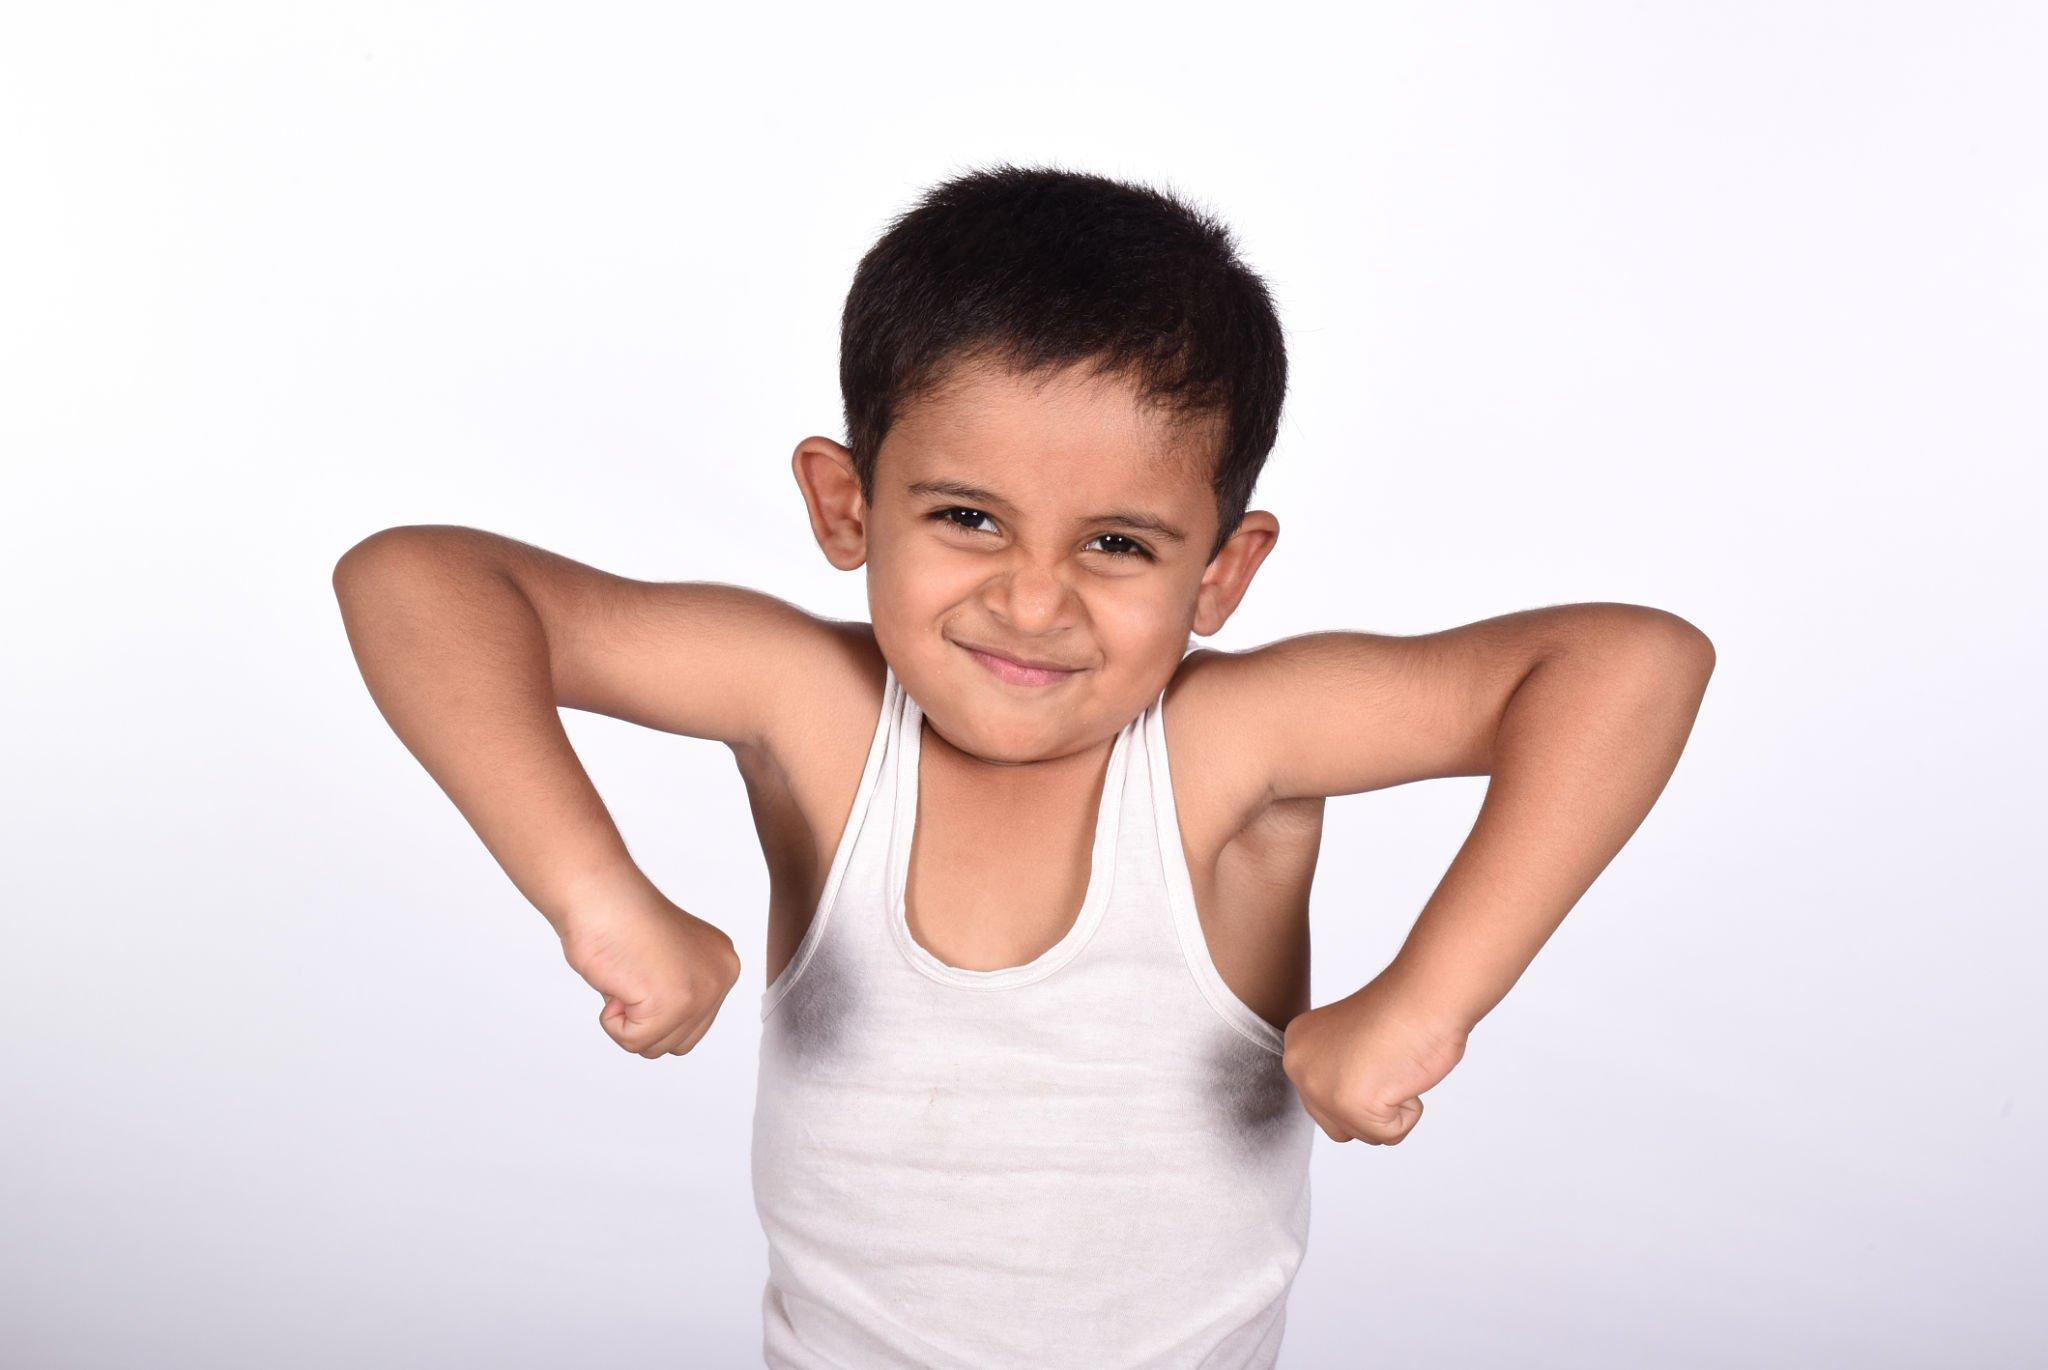Healthy: (796, 281, 1285, 803)
